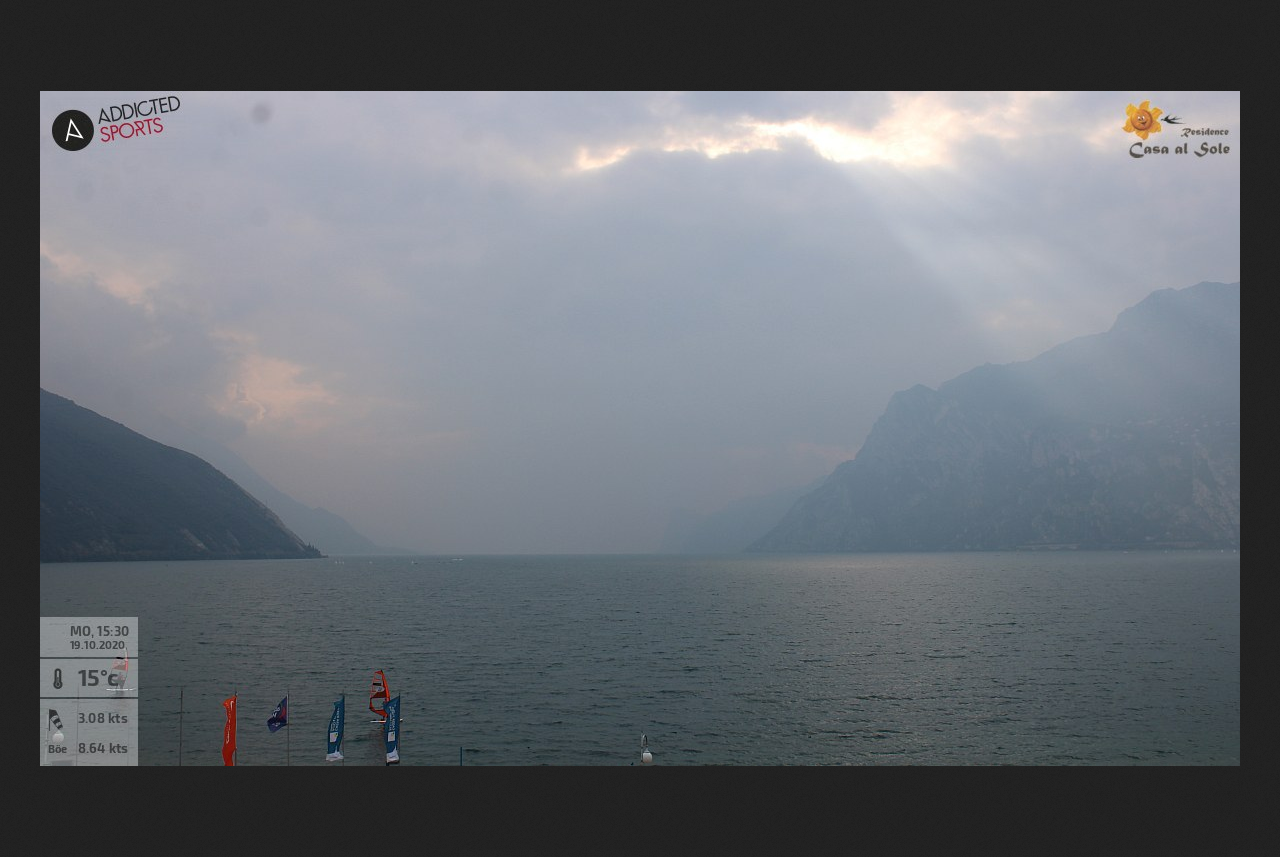maybe: (327, 697, 345, 763), (221, 694, 237, 766), (386, 697, 401, 766), (270, 693, 287, 730)
